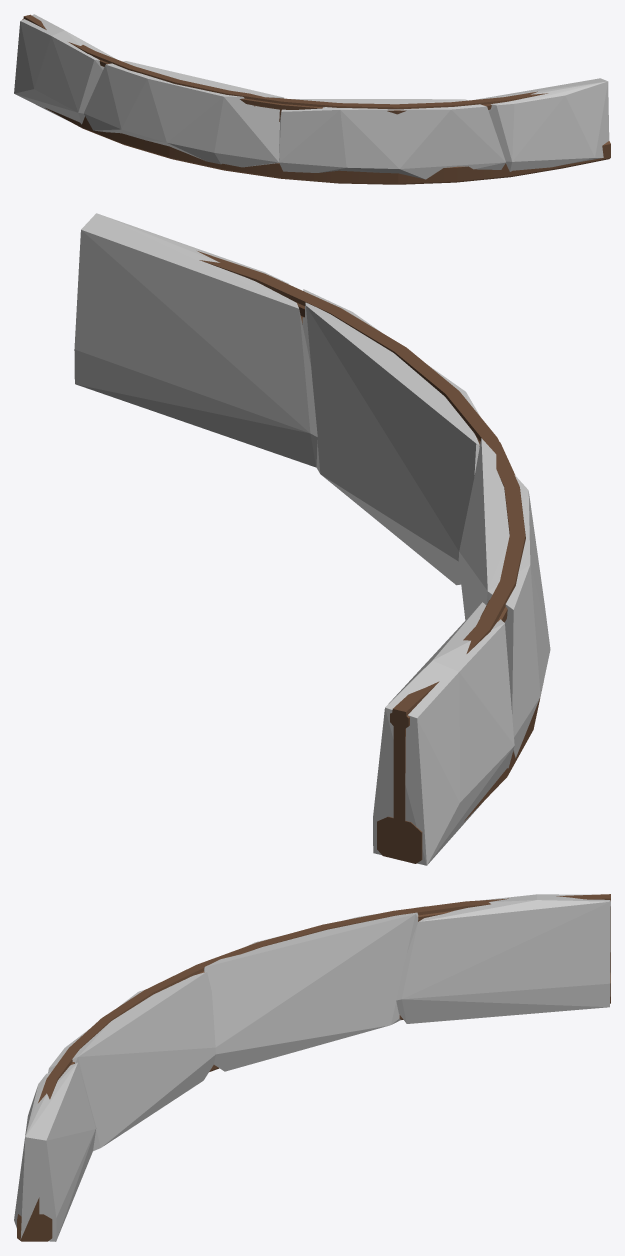
The model's file is SM_Bld_Stairs_Railing_Round_02.fbx.
The picture shows the model from 3 angles, top to bottom: view 1: azimuth 30°, elevation 25°; view 2: azimuth 150°, elevation 25°; view 3: azimuth 270°, elevation 25°; orthographic projection. The views are drawn at different scales.
Parts seen in each view (by area): view 1: SM_Bld_Stairs_Railing_Round_02_ConvexHulls, SM_Bld_Stairs_Railing_Round_02; view 2: SM_Bld_Stairs_Railing_Round_02_ConvexHulls, SM_Bld_Stairs_Railing_Round_02; view 3: SM_Bld_Stairs_Railing_Round_02_ConvexHulls, SM_Bld_Stairs_Railing_Round_02.
Part boxes in pixels (box(x1,y1,x2,y2)): SM_Bld_Stairs_Railing_Round_02_ConvexHulls: box(14, 14, 609, 179); SM_Bld_Stairs_Railing_Round_02: box(22, 14, 610, 184); SM_Bld_Stairs_Railing_Round_02_ConvexHulls: box(74, 213, 550, 865); SM_Bld_Stairs_Railing_Round_02: box(197, 251, 540, 863); SM_Bld_Stairs_Railing_Round_02_ConvexHulls: box(14, 894, 610, 1241); SM_Bld_Stairs_Railing_Round_02: box(17, 894, 610, 1241).
Bounding box in the file's own units: 519 × 518 × 103.
Materials: 2 (1 with a texture image).
